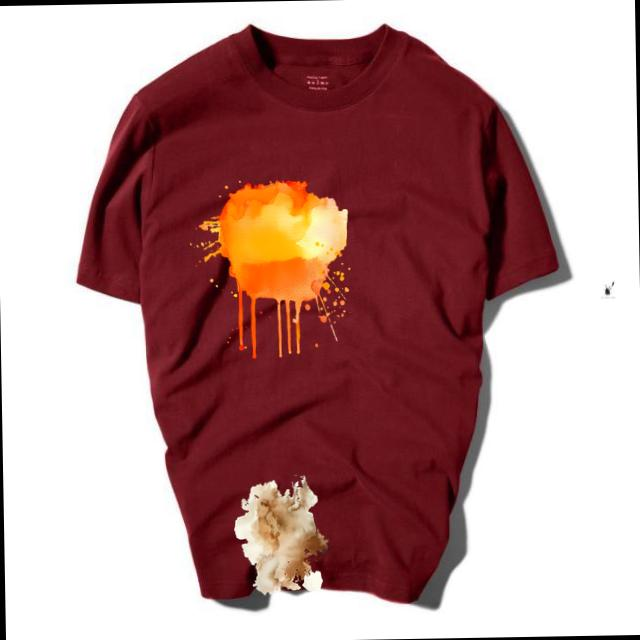stain: (198, 182, 352, 360), (233, 480, 334, 594)
